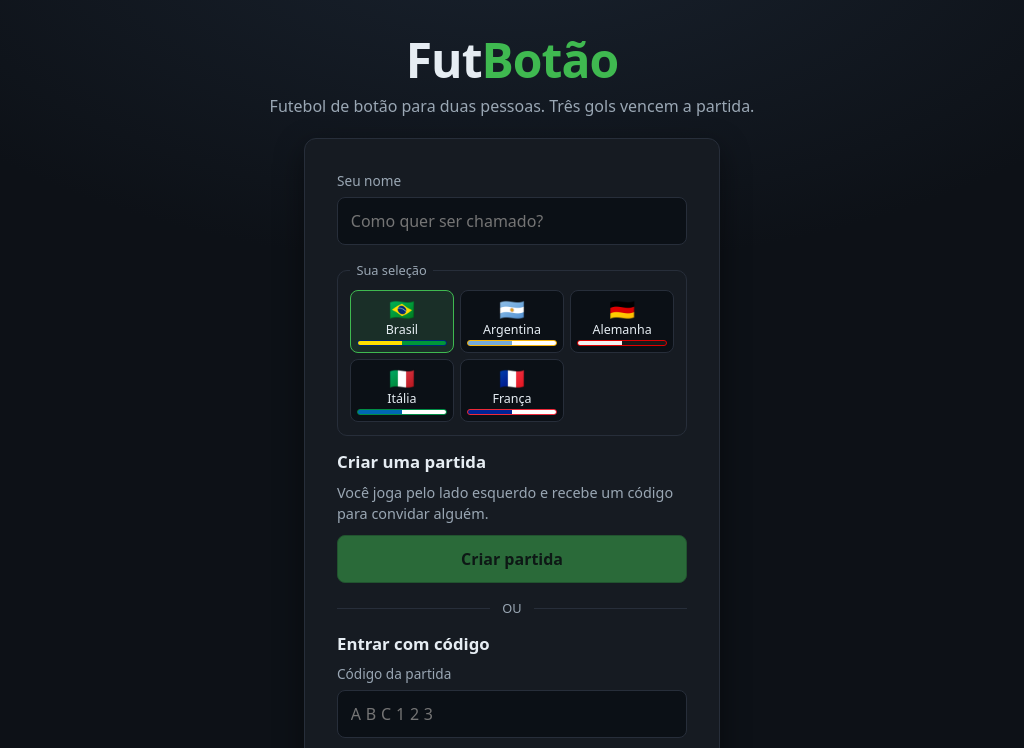
Test: App: escolha de selecao e aviso de gol › mostra a selecao de cada jogador no placar
Type "Ana" into the field labelled "Seu nome" at [512, 221], box [337,197,687,245]
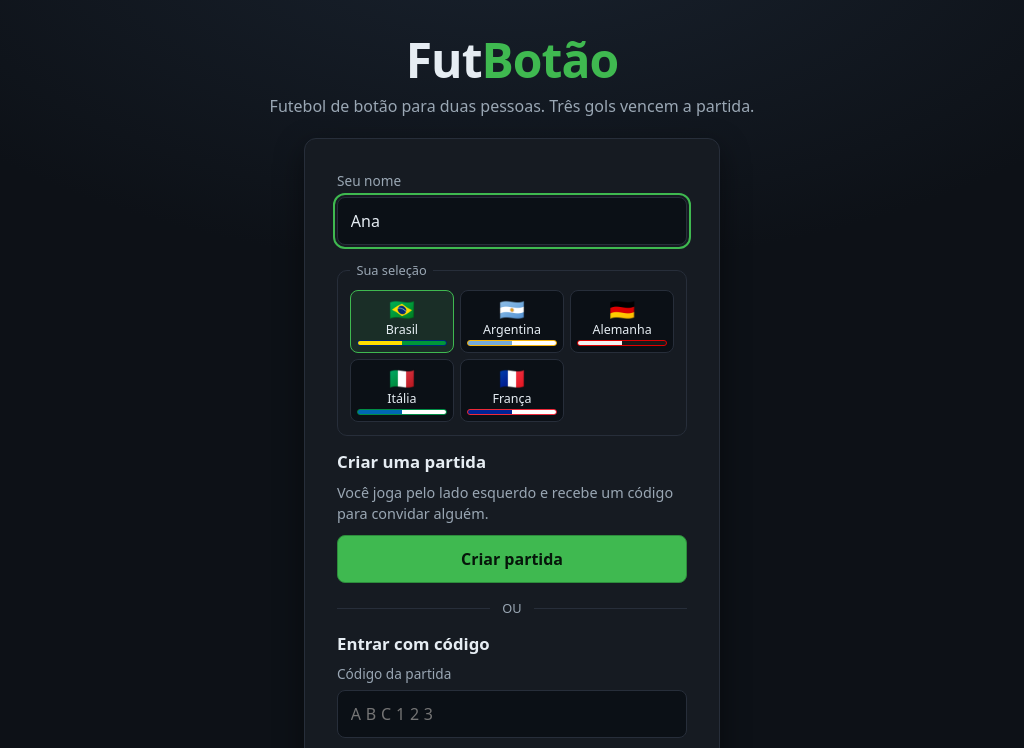
Click the button "Criar partida" at [512, 559], box [337,534,687,583]
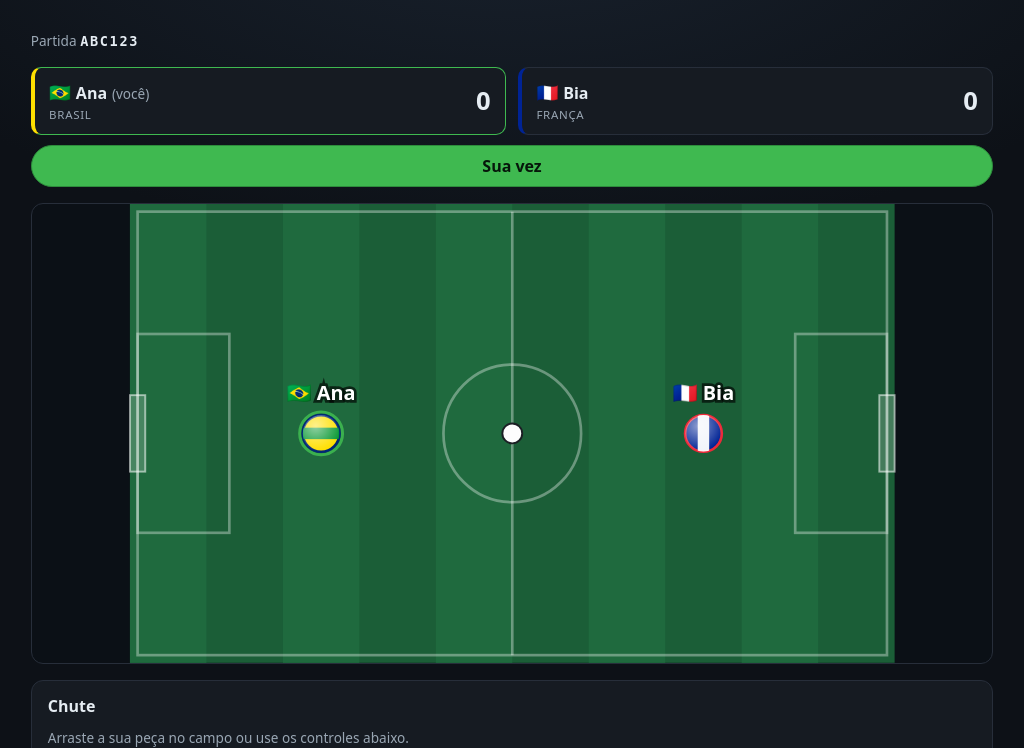
Check: the text "Sua vez" is shown, box [31,145,993,187]
Check: the element named "placar" shows "Brasil", box [49,107,92,122]
Check: the element named "placar" shows "França", box [536,107,584,122]
